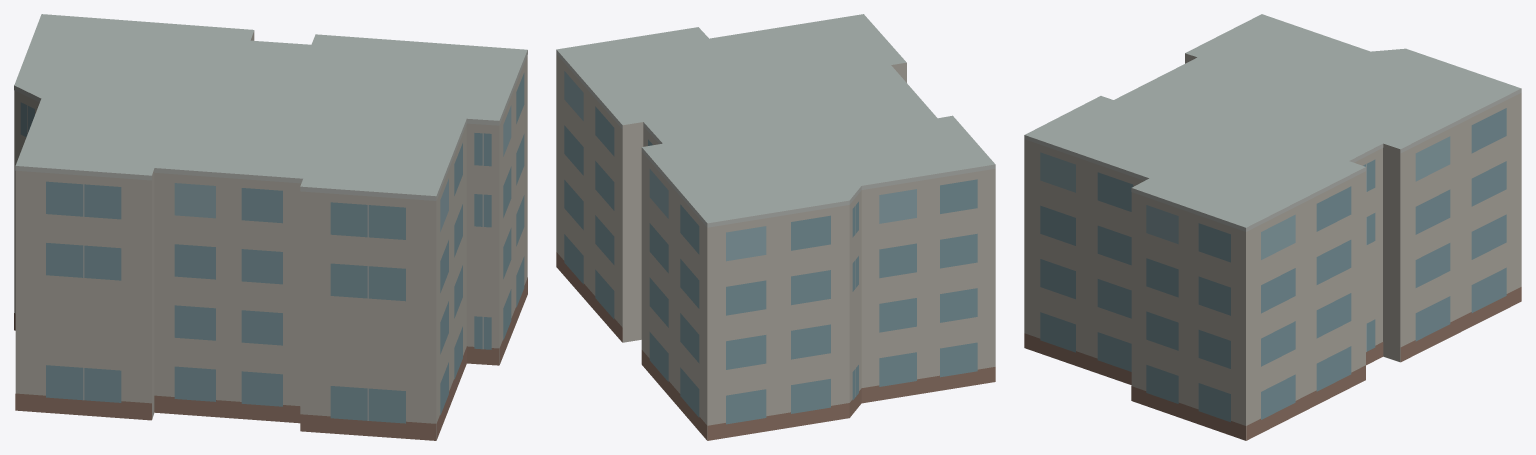
Rendered from survey-upis-32916296.glb.
The picture shows the model from 3 angles, left to right: view 1: azimuth 30°, elevation 25°; view 2: azimuth 150°, elevation 25°; view 3: azimuth 270°, elevation 25°; orthographic projection. The views are drawn at different scales.
Parts seen in each view (by area): view 1: survey-upis-32916296.tmp; view 2: survey-upis-32916296.tmp; view 3: survey-upis-32916296.tmp.
Part boxes in pixels (x1,y1,x2,y2): survey-upis-32916296.tmp: (14, 14, 527, 440); survey-upis-32916296.tmp: (556, 14, 995, 440); survey-upis-32916296.tmp: (1024, 14, 1521, 440).
Size of the model in its own units: 26.69 by 12.4 by 26.22.
